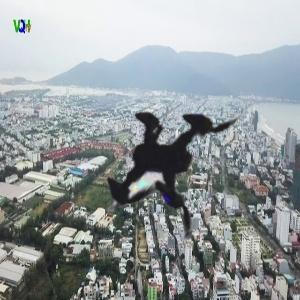drone: (19, 15, 296, 292)
